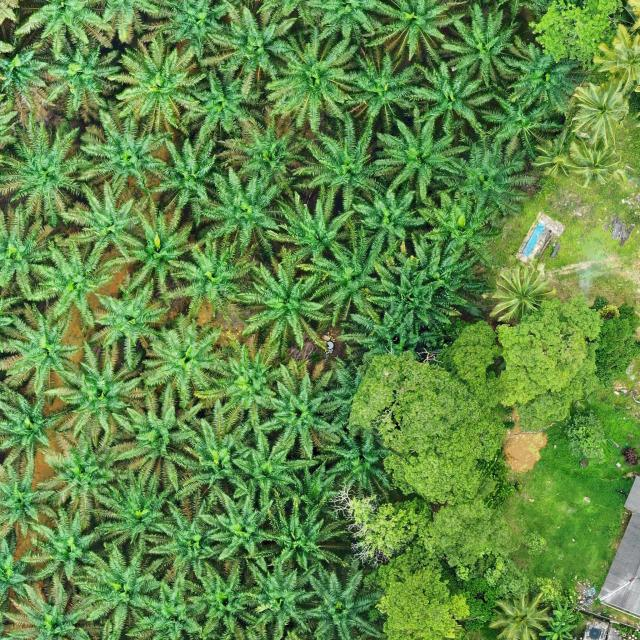Tree: (348, 351, 505, 508), (447, 296, 608, 428), (290, 105, 399, 208), (304, 223, 414, 324), (113, 387, 210, 497), (44, 346, 148, 446), (0, 120, 93, 229), (190, 333, 288, 435), (109, 36, 207, 136), (368, 252, 464, 354), (266, 28, 361, 130), (231, 258, 331, 354), (372, 107, 466, 208), (258, 361, 349, 464), (204, 1, 300, 98), (70, 543, 168, 637), (37, 429, 132, 523), (140, 309, 232, 406), (79, 106, 175, 198), (436, 132, 538, 218), (168, 230, 260, 324), (110, 204, 202, 294), (232, 425, 322, 517), (27, 235, 115, 329), (176, 396, 256, 498), (215, 109, 312, 193), (376, 557, 474, 640), (196, 167, 286, 256), (341, 47, 420, 146), (0, 302, 85, 393), (198, 490, 274, 589), (440, 4, 528, 87), (90, 476, 174, 562), (407, 57, 500, 134), (93, 276, 169, 370), (18, 504, 104, 584), (354, 1, 461, 64), (266, 188, 354, 263), (45, 35, 125, 116), (419, 190, 498, 270), (504, 35, 583, 115), (432, 499, 520, 570), (482, 88, 566, 162), (150, 126, 222, 212), (241, 557, 315, 640), (0, 379, 65, 473), (303, 564, 383, 640), (189, 557, 262, 640), (152, 494, 224, 578), (61, 180, 146, 250), (260, 503, 346, 572), (183, 66, 262, 140), (133, 568, 207, 640), (323, 424, 395, 495), (351, 184, 430, 248), (589, 293, 640, 381), (488, 264, 556, 324), (565, 136, 634, 194), (572, 78, 630, 146), (279, 455, 339, 520), (490, 592, 554, 640), (563, 409, 608, 460), (538, 598, 578, 640)
